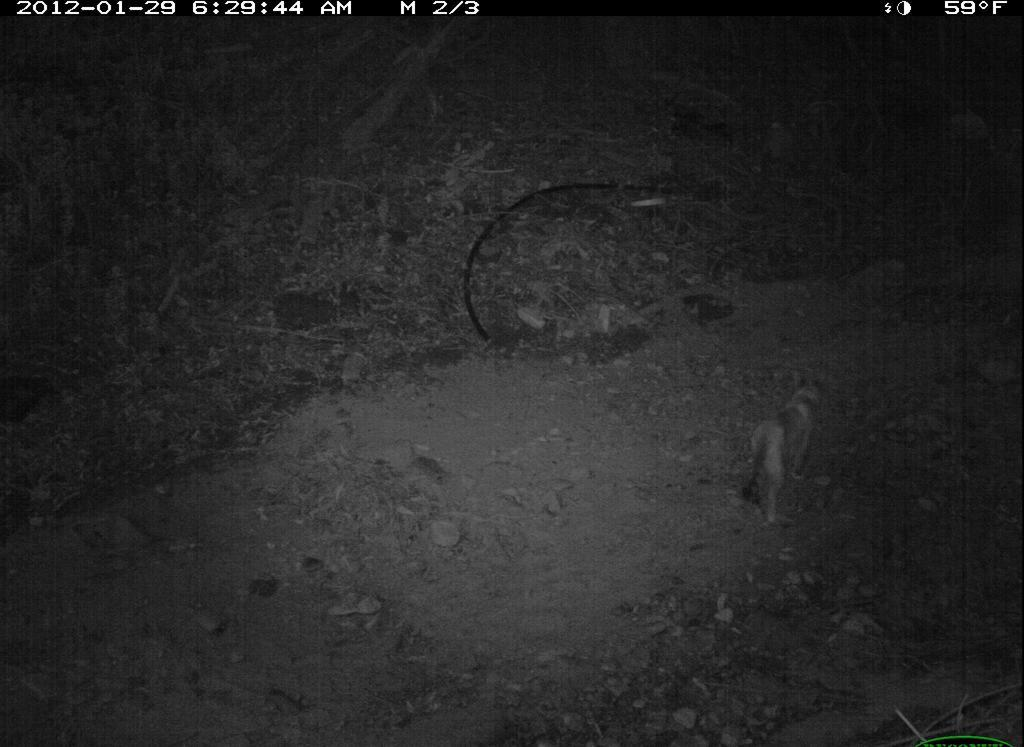cat: (727, 363, 835, 536)
